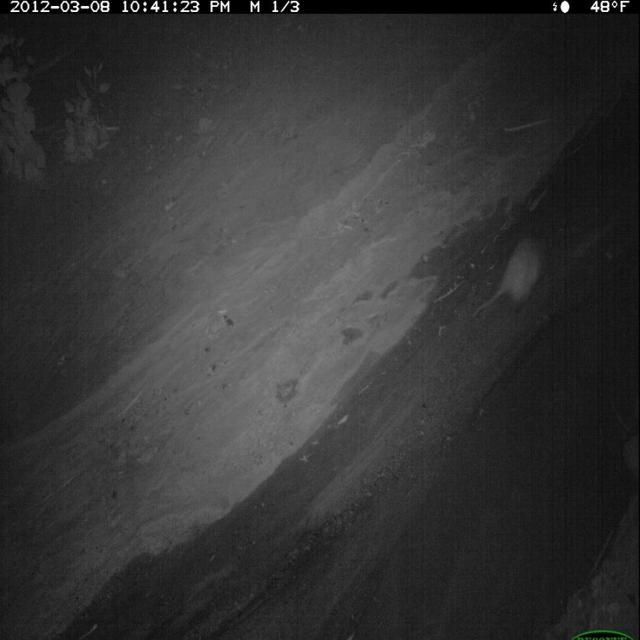opossum: (467, 222, 554, 330)
